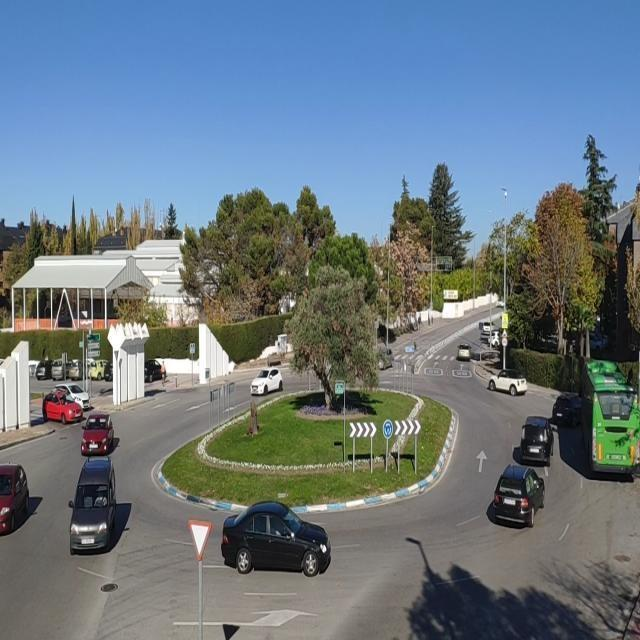Bus: (582, 358, 640, 474)
Car: (223, 500, 330, 576), (68, 458, 118, 553), (491, 465, 546, 528), (0, 464, 30, 535), (518, 417, 555, 465), (80, 413, 115, 454), (43, 389, 84, 423), (486, 368, 527, 396), (552, 393, 582, 425), (250, 368, 283, 396), (51, 358, 78, 381), (68, 359, 94, 381), (143, 359, 166, 383), (86, 359, 110, 381), (34, 360, 55, 380), (590, 332, 609, 352), (378, 324, 396, 344), (278, 294, 295, 314), (378, 348, 393, 370), (538, 333, 559, 348), (55, 313, 77, 327), (477, 349, 499, 362), (480, 321, 496, 336), (457, 344, 471, 361), (488, 329, 501, 347), (28, 360, 40, 377), (72, 358, 94, 367), (267, 353, 281, 367), (408, 316, 418, 331), (469, 350, 481, 361), (480, 332, 490, 344), (496, 300, 505, 308), (478, 322, 484, 330), (0, 359, 6, 366)
